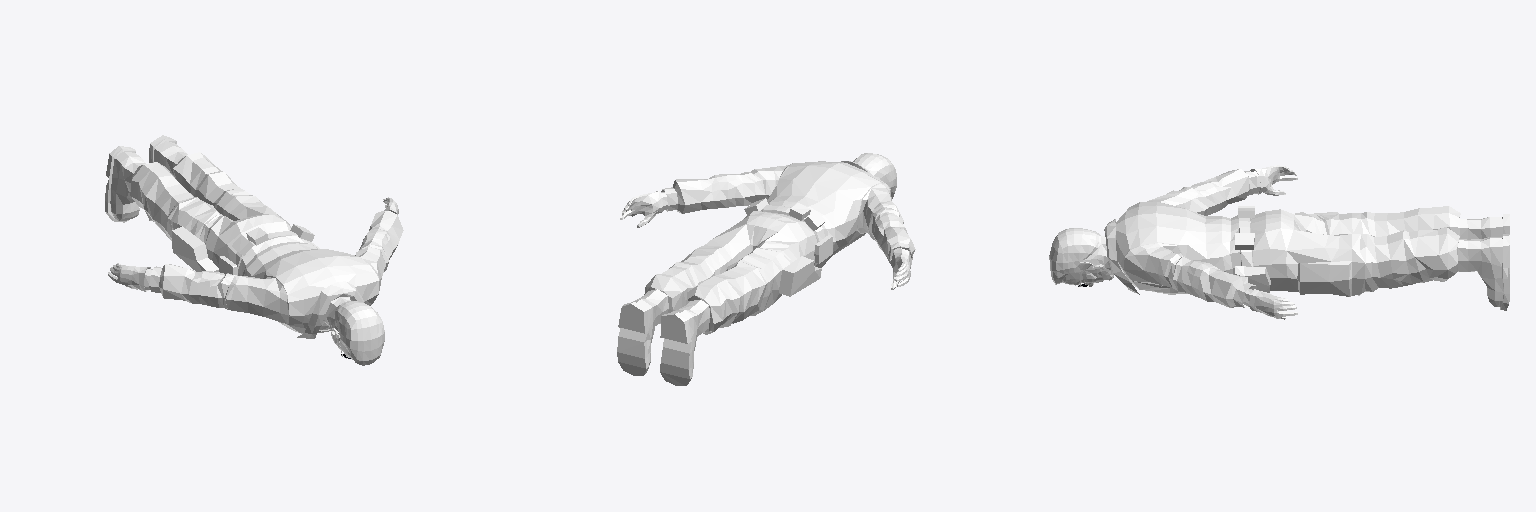
The picture shows the model from 3 angles: view 1: azimuth 30°, elevation 25°; view 2: azimuth 150°, elevation 25°; view 3: azimuth 270°, elevation 25°; orthographic projection.
Parts seen in each view (by area): view 1: smdimport; view 2: smdimport; view 3: smdimport.
Part boxes in pixels (x1,y1,x2,y2): smdimport: (105, 135, 403, 365); smdimport: (617, 153, 915, 385); smdimport: (1049, 165, 1509, 319).
Bounding box in the file's own units: 54.3 × 15.75 × 76.99.
Materials: 2 (1 with a texture image).